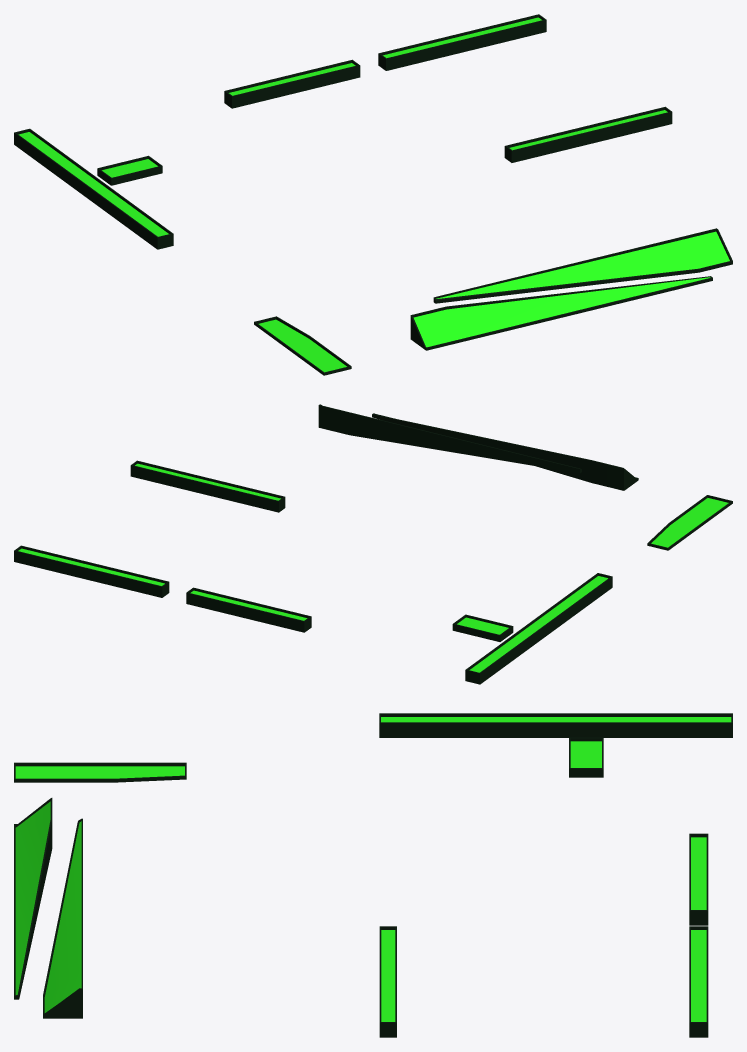
Rendered from MSH_Jardineras.FBX.
3 renders of one model, top to bottom at view 1: azimuth 30°, elevation 25°; view 2: azimuth 150°, elevation 25°; view 3: azimuth 270°, elevation 25°, orthographic. The views are drawn at different scales.
Parts seen in each view (by area): view 1: MSH_Jardineras; view 2: MSH_Jardineras; view 3: MSH_Jardineras.
Part boxes in pixels (bbox=[...]): MSH_Jardineras: bbox=[14, 14, 732, 375]; MSH_Jardineras: bbox=[14, 404, 732, 684]; MSH_Jardineras: bbox=[14, 713, 732, 1037].
Size of the model in its own units: 4448 by 280 by 4367.
